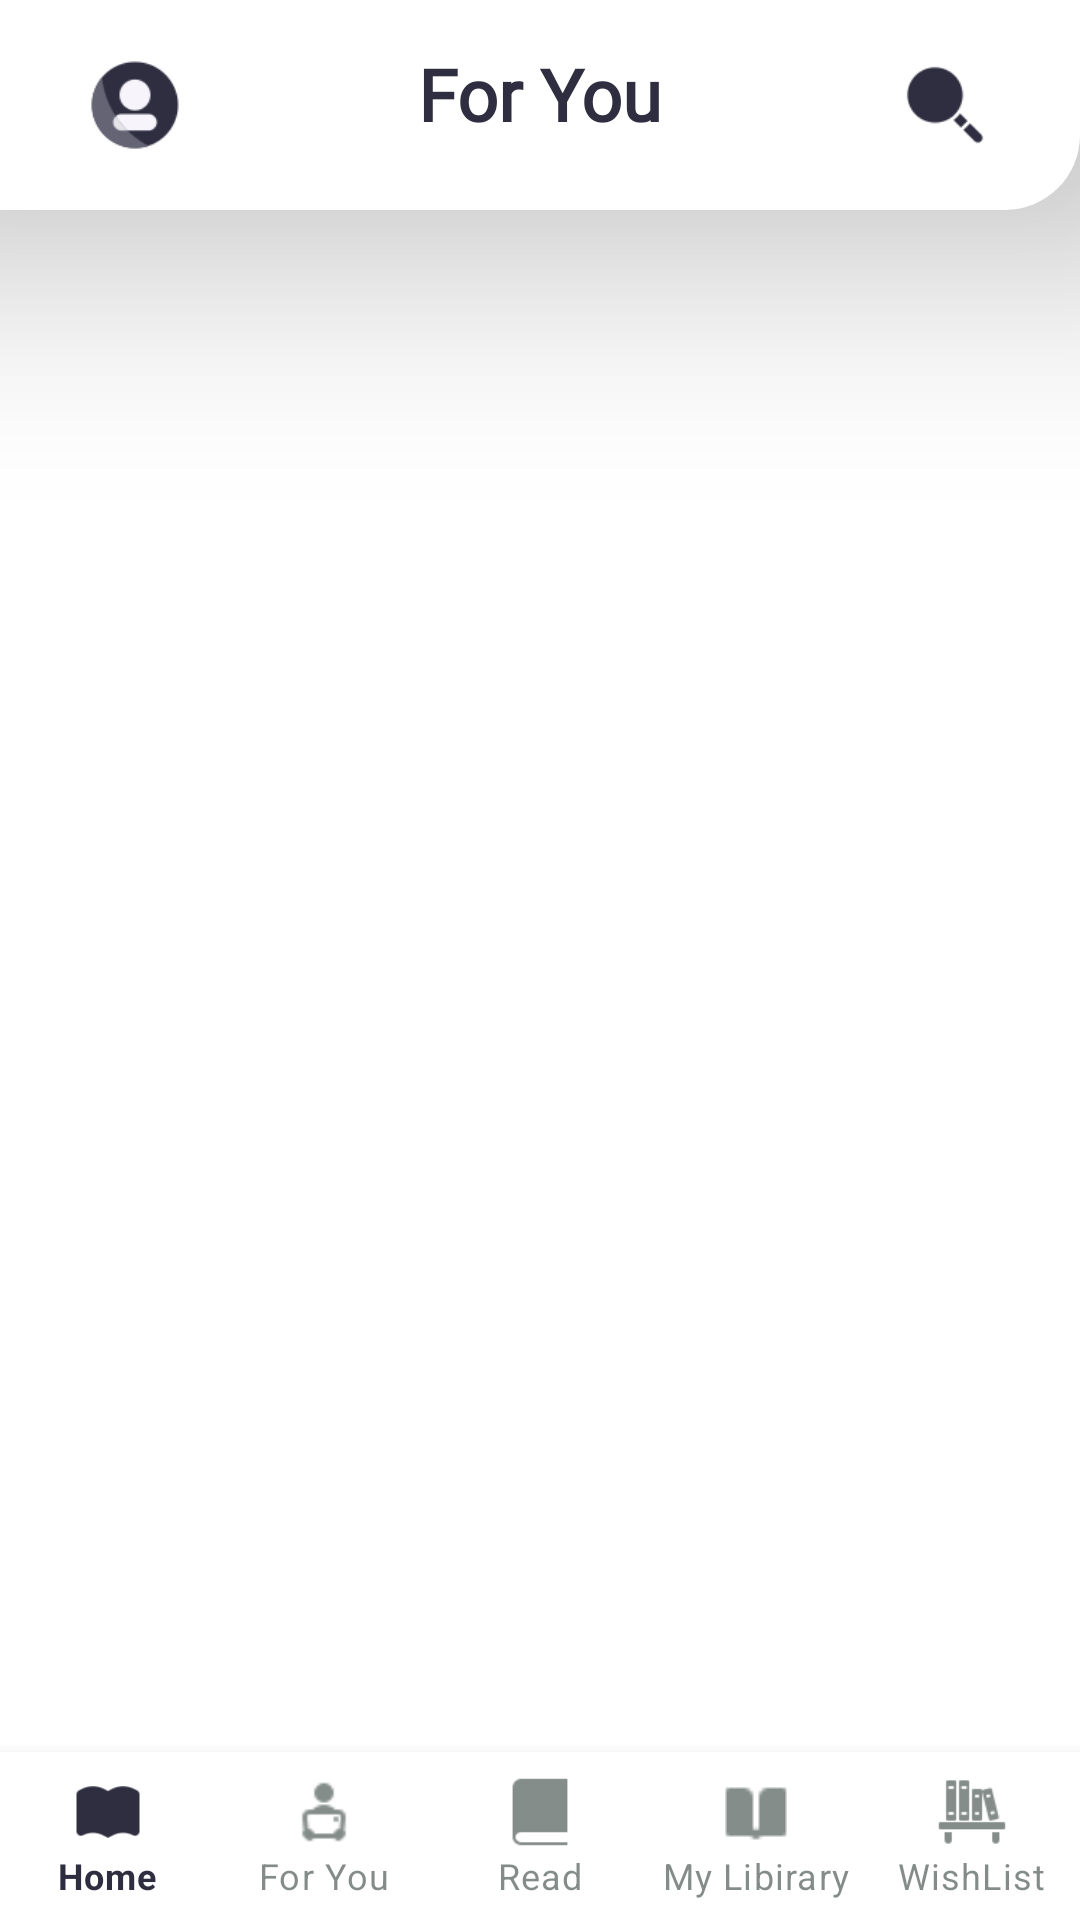

Named icons in this screenshot (1080x1920) and their bounding boxes, (x1, y1, x2, y2):
profile: (91, 61, 179, 149)
search: (907, 67, 983, 143)
